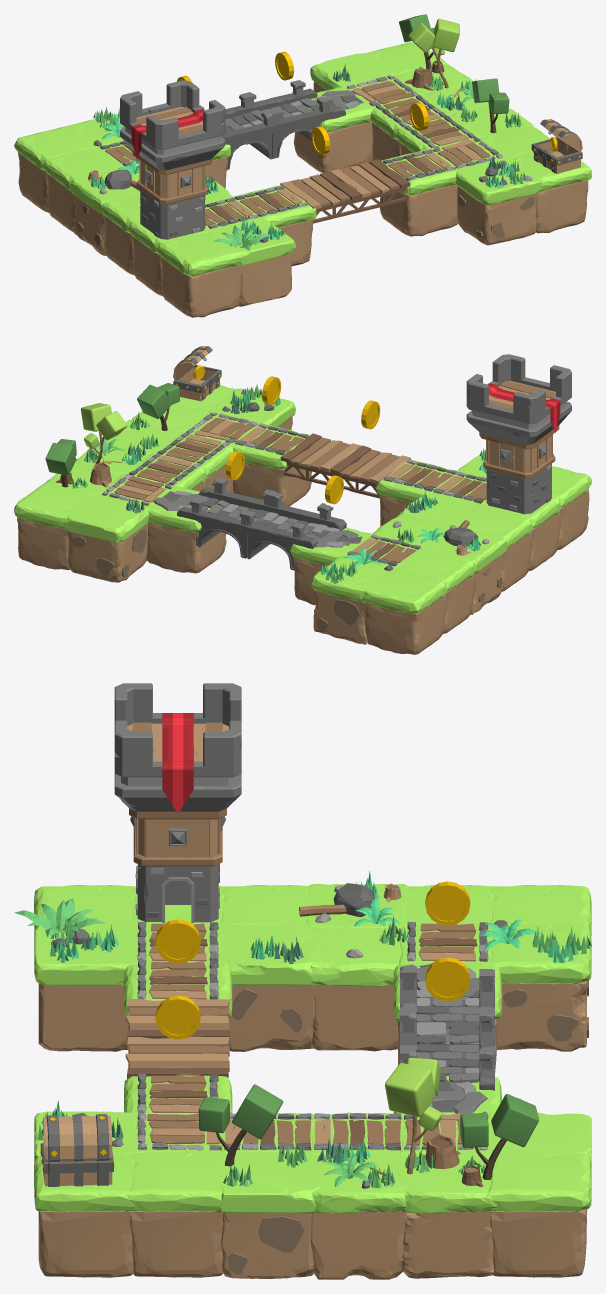
The picture shows the model from 3 angles, top to bottom: view 1: azimuth 30°, elevation 25°; view 2: azimuth 150°, elevation 25°; view 3: azimuth 270°, elevation 25°; orthographic projection. The views are drawn at different scales.
Visible parts, largest first — view 1: TowerV1, Bridge_002, Tile_Bot_Part_7, Tile_Bot_Part_20, Tile_Bot_Part_15, Tile_Bot_Part_6, Tile_Top_Part_7, Bridge_003, Tile_Top_Part_20, Bridge_003_1, Tile_Bot_Part_1, Tile_Bot_Part_17 (+50 smaller); view 2: TowerV1, Bridge_002, Bridge_002_1, Tile_Bot_Part_18, Tile_Bot_Part_6, Tile_Top_Part_24, Tile_Top_Part_18, Tile_Bot_Part_24, Bridge_003, Tile_Top_Part_9, Bridge_003_1, Tile_Bot_Part_9 (+53 smaller); view 3: TowerV1, Tile_Bot_Part_9, Tile_Bot_Part_1, Tile_Bot_Part_23, Tile_Bot_Part_11, Tile_Bot_Part_17, Tile_Bot_Part_21, Tile_Top_Part_9, Tile_Top_Part_11, Tile_Bot_Part_14, Tile_Top_Part_22, Tile_Top_Part_16 (+53 smaller).
Boxes of the visible parts, x1=… form: TowerV1: x1=120, y1=80, x2=225, y2=239; Bridge_002: x1=230, y1=80, x2=345, y2=158; Tile_Bot_Part_7: x1=160, y1=256, x2=242, y2=317; Tile_Bot_Part_20: x1=457, y1=186, x2=536, y2=245; Tile_Bot_Part_15: x1=379, y1=184, x2=457, y2=236; Tile_Bot_Part_6: x1=294, y1=122, x2=372, y2=172; Tile_Top_Part_7: x1=156, y1=232, x2=242, y2=276; Bridge_003: x1=329, y1=159, x2=410, y2=211; Tile_Top_Part_20: x1=455, y1=156, x2=542, y2=205; Bridge_003_1: x1=280, y1=171, x2=360, y2=223; Tile_Bot_Part_1: x1=535, y1=180, x2=588, y2=233; Tile_Bot_Part_17: x1=238, y1=253, x2=291, y2=306; TowerV1: x1=466, y1=354, x2=571, y2=514; Bridge_002: x1=177, y1=477, x2=293, y2=558; Bridge_002_1: x1=228, y1=489, x2=346, y2=570; Tile_Bot_Part_18: x1=365, y1=595, x2=446, y2=654; Tile_Bot_Part_6: x1=146, y1=522, x2=226, y2=573; Tile_Top_Part_24: x1=63, y1=495, x2=149, y2=542; Tile_Top_Part_18: x1=362, y1=567, x2=446, y2=614; Tile_Bot_Part_24: x1=67, y1=523, x2=147, y2=582; Bridge_003: x1=280, y1=433, x2=361, y2=485; Tile_Top_Part_9: x1=14, y1=482, x2=96, y2=529; Bridge_003_1: x1=330, y1=445, x2=410, y2=498; Tile_Bot_Part_9: x1=17, y1=517, x2=69, y2=570; TowerV1: x1=114, y1=683, x2=241, y2=922; Tile_Bot_Part_9: x1=490, y1=1209, x2=586, y2=1277; Tile_Bot_Part_1: x1=38, y1=1211, x2=133, y2=1277; Tile_Bot_Part_23: x1=310, y1=1211, x2=406, y2=1279; Tile_Bot_Part_11: x1=129, y1=1211, x2=223, y2=1277; Tile_Bot_Part_17: x1=38, y1=983, x2=128, y2=1051; Tile_Bot_Part_21: x1=401, y1=1211, x2=495, y2=1278; Tile_Top_Part_9: x1=486, y1=1152, x2=591, y2=1211; Tile_Top_Part_11: x1=127, y1=1151, x2=225, y2=1211; Tile_Bot_Part_14: x1=312, y1=984, x2=397, y2=1051; Tile_Top_Part_22: x1=216, y1=1150, x2=320, y2=1213; Tile_Top_Part_16: x1=219, y1=921, x2=320, y2=985.
Size of the model in its own units: 8.34 by 3.5 by 6.43.
Materials: 1 (1 with a texture image).
